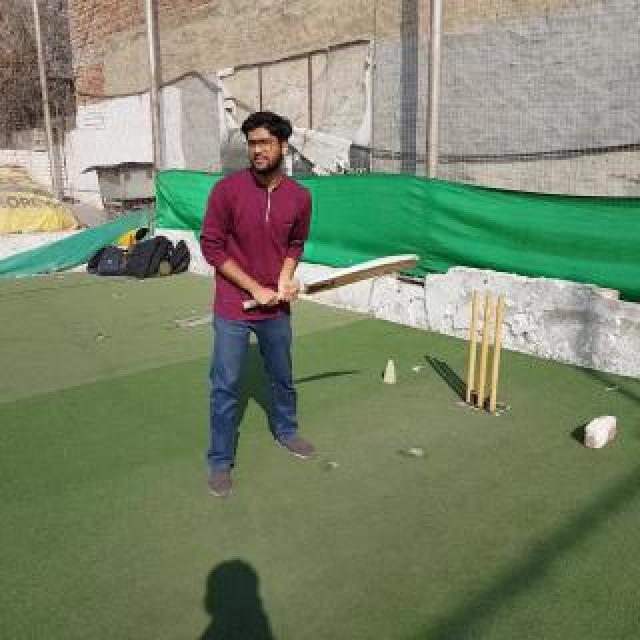bat: (242, 254, 420, 310)
